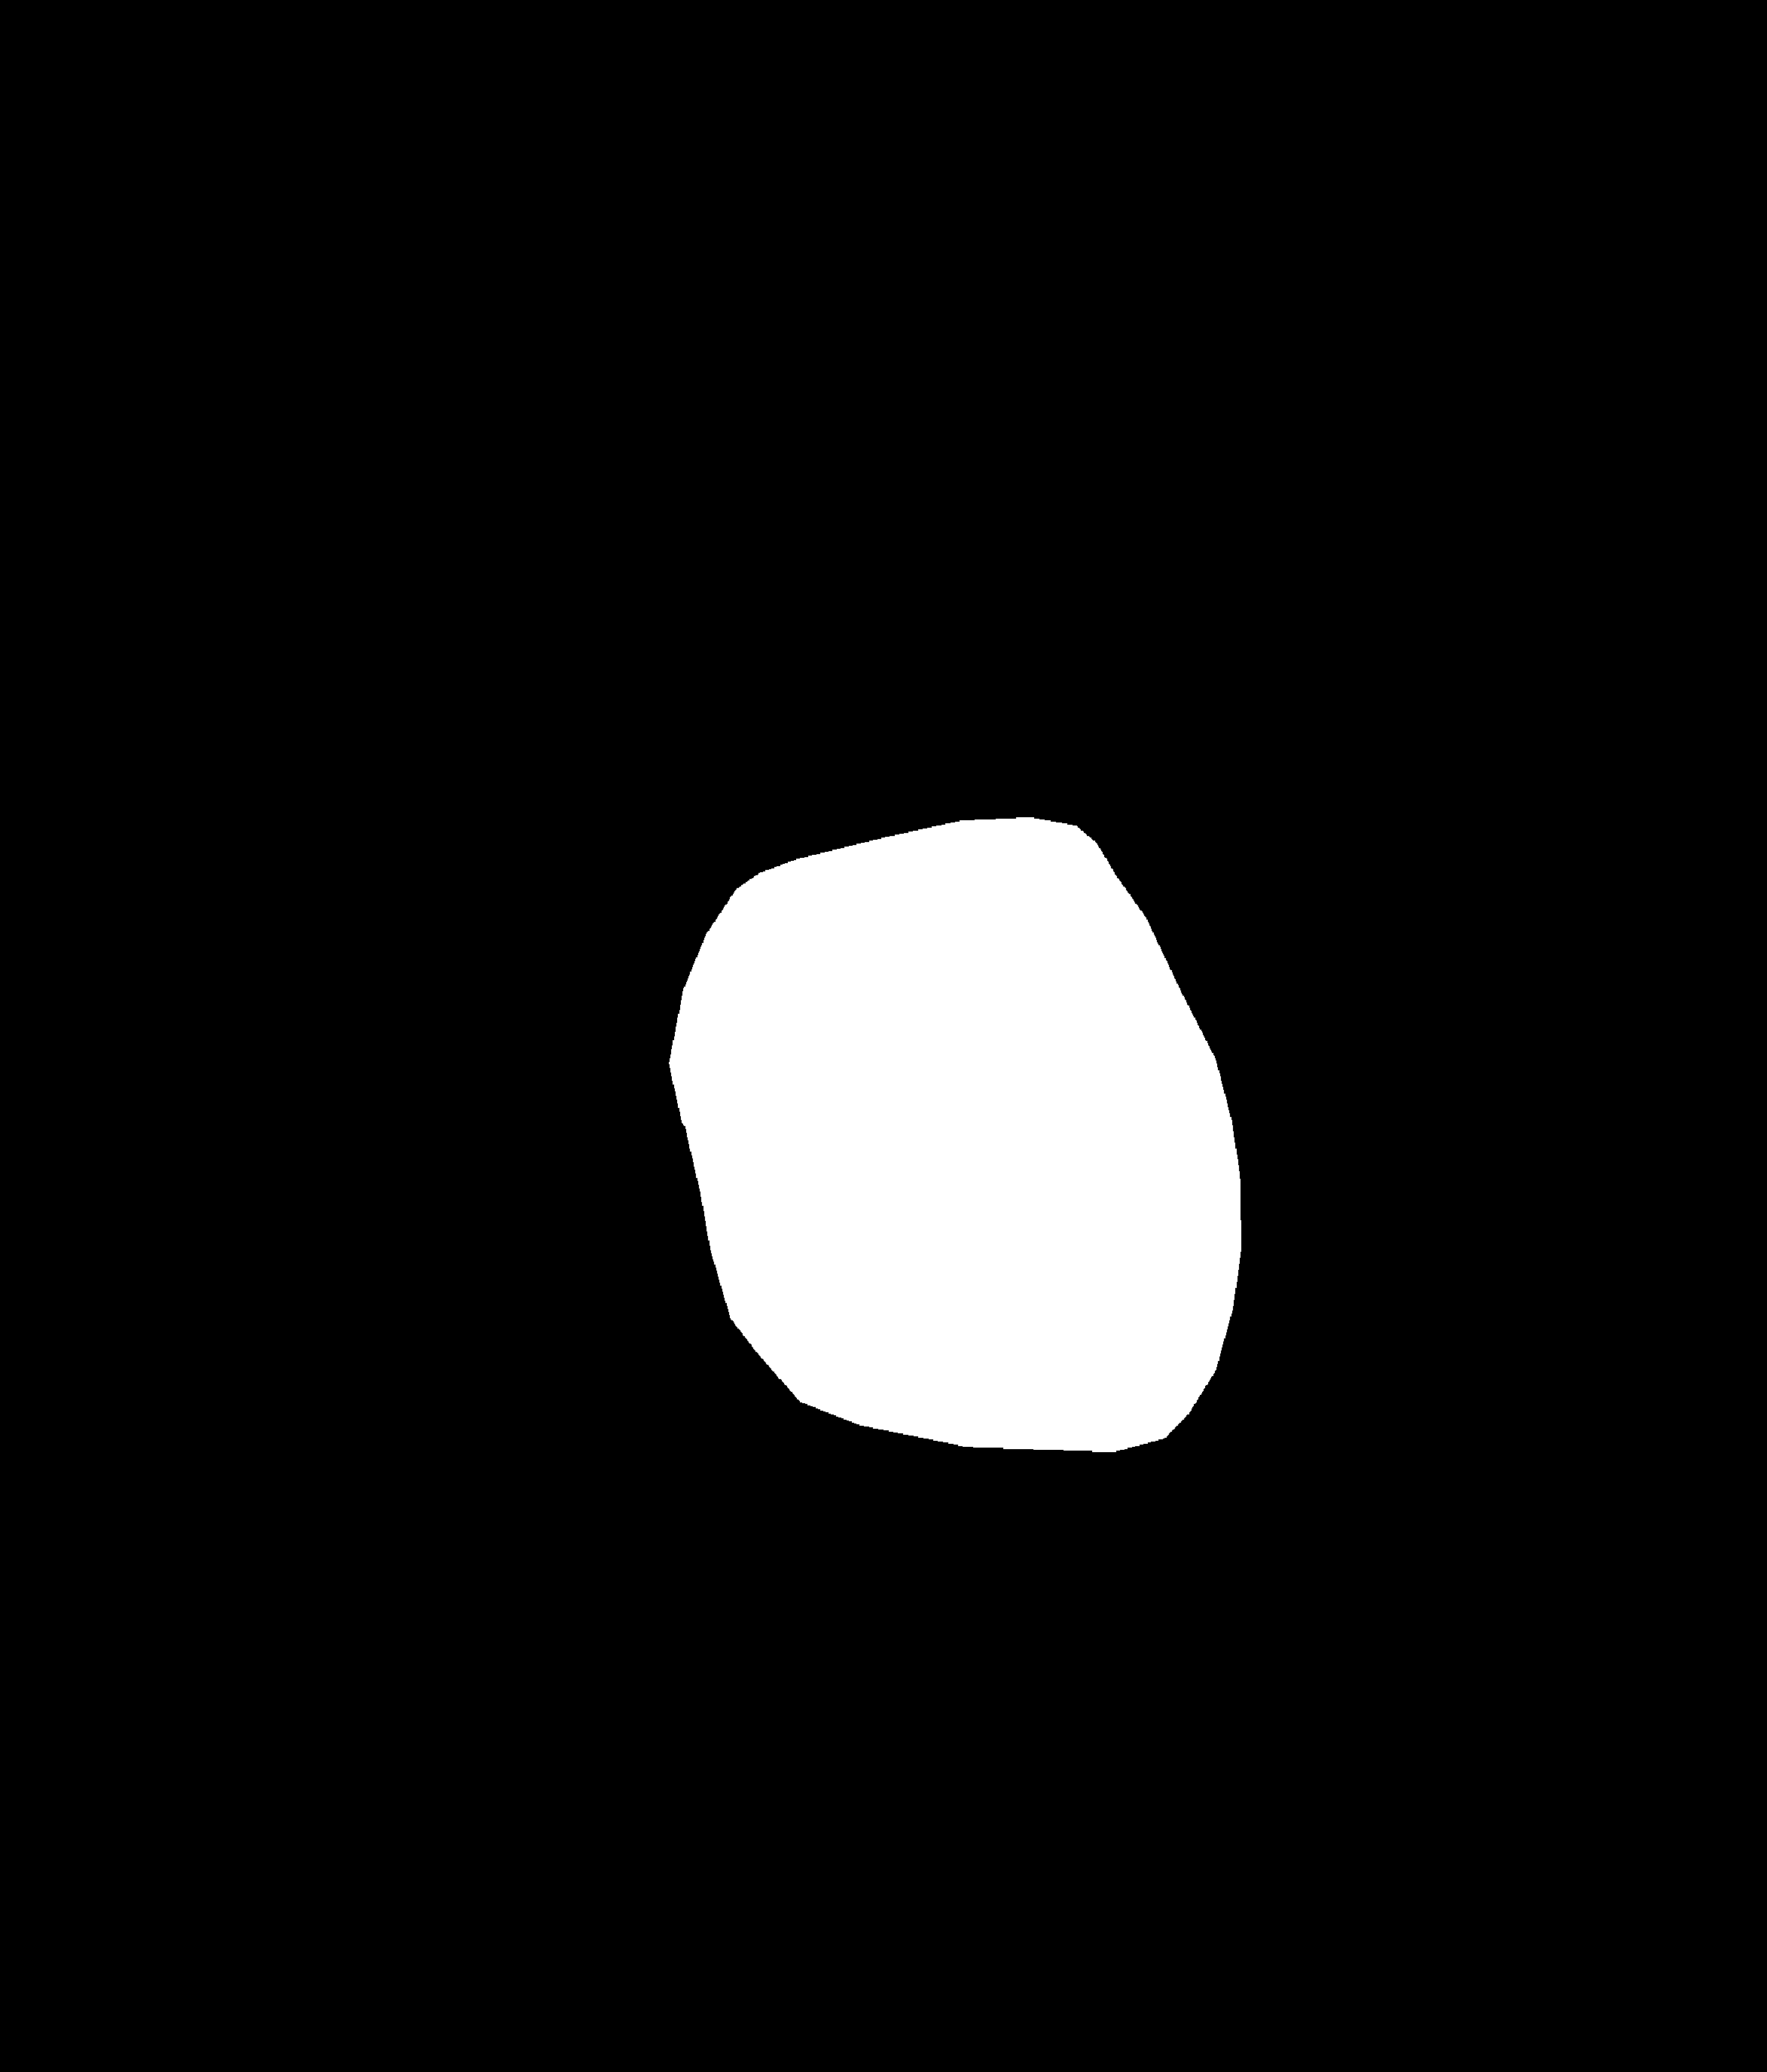heart: (677, 857, 1243, 1418)
left_lung: (214, 200, 819, 1574)
right_lung: (968, 181, 1572, 1679)
